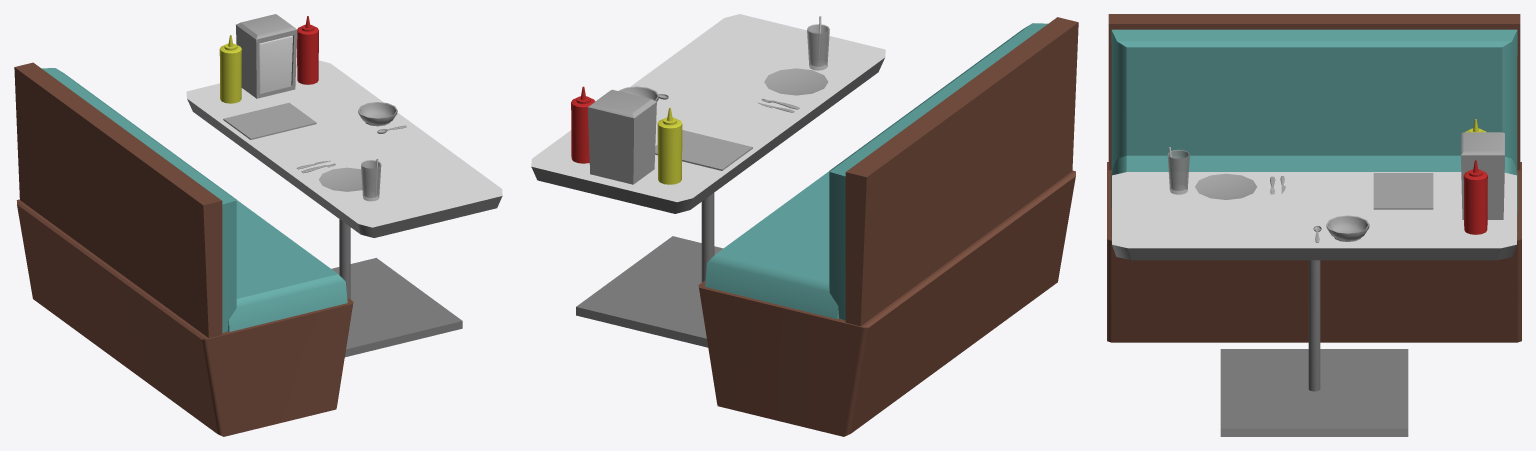
File: Cafe Assets.fbx
3 views of the same model, side by side, from view 1: azimuth 30°, elevation 25°; view 2: azimuth 150°, elevation 25°; view 3: azimuth 270°, elevation 25° (orthographic). The views are drawn at different scales.
Parts seen in each view (by area): view 1: polySurface2, pCube11, pCube9, pCube17, pCylinder3, pCylinder2, pCylinder5, pCylinder6, pCylinder4; view 2: polySurface2, pCube11, pCube9, pCube17, pCylinder3, pCylinder5, pCylinder2, pCylinder4; view 3: polySurface2, pCube11, pCube9, pCube17, pCylinder2, pCylinder5, pCylinder6, pCylinder4.
Boxes of the visible parts, x1,y1,x2,y2 form: polySurface2: (14,62,353,436); pCube11: (186,60,502,357); pCube9: (236,14,297,98); pCube17: (223,102,316,139); pCylinder3: (219,35,241,103); pCylinder2: (297,16,318,84); pCylinder5: (319,167,362,191); pCylinder6: (358,102,397,126); pCylinder4: (361,160,381,201); polySurface2: (698,17,1078,436); pCube11: (531,14,885,347); pCube9: (587,89,656,184); pCube17: (655,130,752,170); pCylinder3: (657,107,682,184); pCylinder5: (764,68,828,95); pCylinder2: (571,86,595,163); pCylinder4: (807,24,829,70); polySurface2: (1107,14,1521,342); pCube11: (1112,172,1516,436); pCube9: (1461,132,1504,219); pCube17: (1373,173,1433,209); pCylinder2: (1463,160,1487,234); pCylinder5: (1195,173,1256,199); pCylinder6: (1326,215,1369,241); pCylinder4: (1167,149,1189,194).
Bounding box in the file's own units: 2.08 × 1.51 × 2.21.
